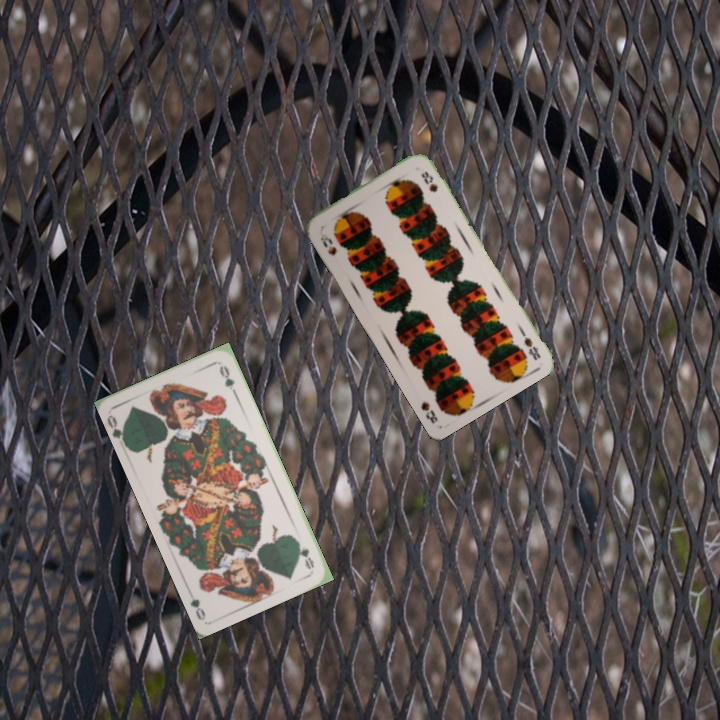GO: (291, 535, 317, 572), (104, 411, 128, 448)
S8: (516, 325, 543, 363), (315, 227, 339, 258)
